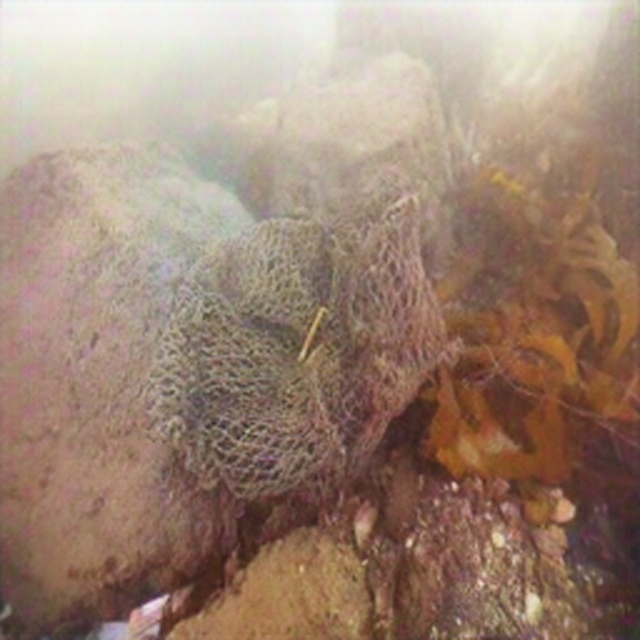mine: (143, 192, 457, 498)
